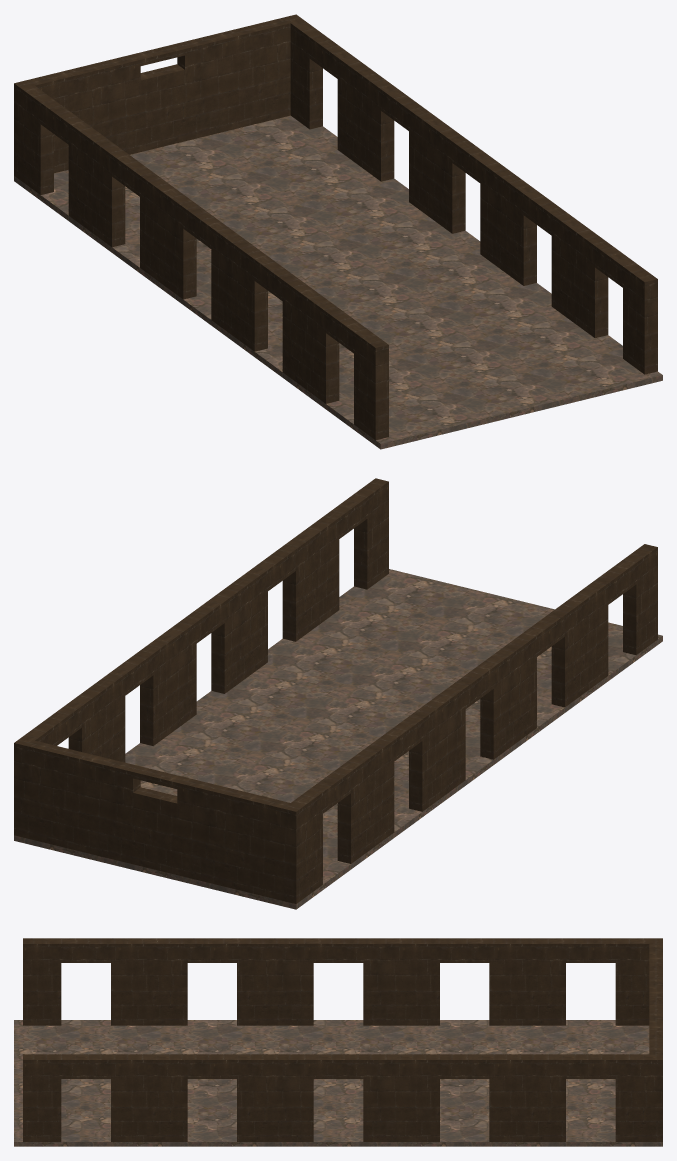
Rendered from corridor-rebuilt.glb.
The picture shows the model from 3 angles, top to bottom: view 1: azimuth 30°, elevation 25°; view 2: azimuth 150°, elevation 25°; view 3: azimuth 270°, elevation 25°; orthographic projection. The views are drawn at different scales.
Parts seen in each view (by area): view 1: 石板地面, 尽头下墙, 墙垛.009, 墙垛.004, 墙垛.006, 墙垛.001, 墙垛.002, 墙垛.007, 墙垛.003, 墙垛.008, 尽头上墙, 墙垛 (+15 smaller); view 2: 石板地面, 尽头下墙, 墙垛.006, 墙垛.004, 墙垛.001, 墙垛.003, 墙垛.008, 墙垛.002, 墙垛.007, 尽头上墙, 墙垛.009, 墙垛.005 (+14 smaller); view 3: 石板地面, 墙垛.001, 墙垛.002, 墙垛.003, 墙垛.004, 墙垛.006, 墙垛.007, 墙垛.008, 墙垛.009, 墙垛, 墙垛.005, 墙尾.001 (+13 smaller).
Part boxes in pixels (x1=…): 石板地面: x1=14, y1=115, x2=662, y2=449; 尽头下墙: x1=14, y1=44, x2=290, y2=179; 墙垛.009: x1=337, y1=54, x2=394, y2=181; 墙垛.004: x1=68, y1=120, x2=125, y2=247; 墙垛.006: x1=551, y1=211, x2=608, y2=338; 墙垛.001: x1=282, y1=276, x2=339, y2=403; 墙垛.002: x1=211, y1=224, x2=267, y2=351; 墙垛.007: x1=480, y1=159, x2=536, y2=285; 墙垛.003: x1=140, y1=172, x2=196, y2=299; 墙垛.008: x1=409, y1=106, x2=465, y2=233; 尽头上墙: x1=14, y1=14, x2=302, y2=94; 墙垛: x1=354, y1=329, x2=388, y2=440; 石板地面: x1=14, y1=569, x2=662, y2=909; 尽头下墙: x1=14, y1=764, x2=303, y2=903; 墙垛.006: x1=282, y1=514, x2=339, y2=641; 墙垛.004: x1=337, y1=737, x2=394, y2=863; 墙垛.001: x1=551, y1=580, x2=608, y2=707; 墙垛.003: x1=409, y1=684, x2=465, y2=811; 墙垛.008: x1=140, y1=619, x2=196, y2=745; 墙垛.002: x1=480, y1=632, x2=536, y2=759; 墙垛.007: x1=211, y1=567, x2=267, y2=693; 尽头上墙: x1=14, y1=739, x2=303, y2=818; 墙垛.009: x1=68, y1=671, x2=125, y2=762; 墙垛.005: x1=354, y1=478, x2=388, y2=589; 石板地面: x1=14, y1=1020, x2=662, y2=1146; 墙垛.001: x1=111, y1=938, x2=187, y2=1025; 墙垛.002: x1=237, y1=938, x2=313, y2=1025; 墙垛.003: x1=363, y1=938, x2=439, y2=1025; 墙垛.004: x1=489, y1=938, x2=565, y2=1025; 墙垛.006: x1=111, y1=1054, x2=187, y2=1141; 墙垛.007: x1=237, y1=1054, x2=313, y2=1141; 墙垛.008: x1=363, y1=1054, x2=439, y2=1141; 墙垛.009: x1=489, y1=1054, x2=565, y2=1141; 墙垛: x1=23, y1=938, x2=61, y2=1025; 墙垛.005: x1=23, y1=1054, x2=61, y2=1141; 墙尾.001: x1=615, y1=1054, x2=653, y2=1141.
Bounding box in the file's own units: 12.8 × 4.24 × 28.8.
2 materials, 2 textured.
